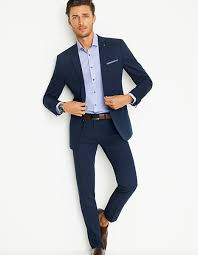F_M_suit jacket: (40, 33, 158, 140)
F_belt: (69, 109, 126, 123)
F_dress pants: (68, 123, 141, 247)
